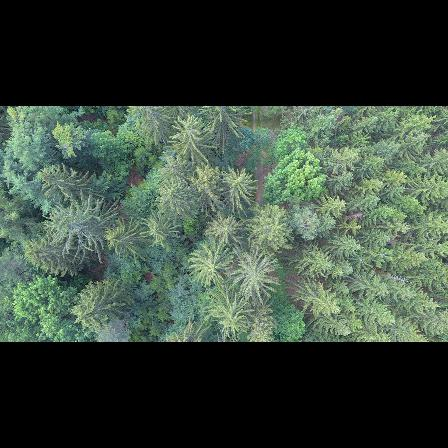Sick: (370, 245, 393, 265)
